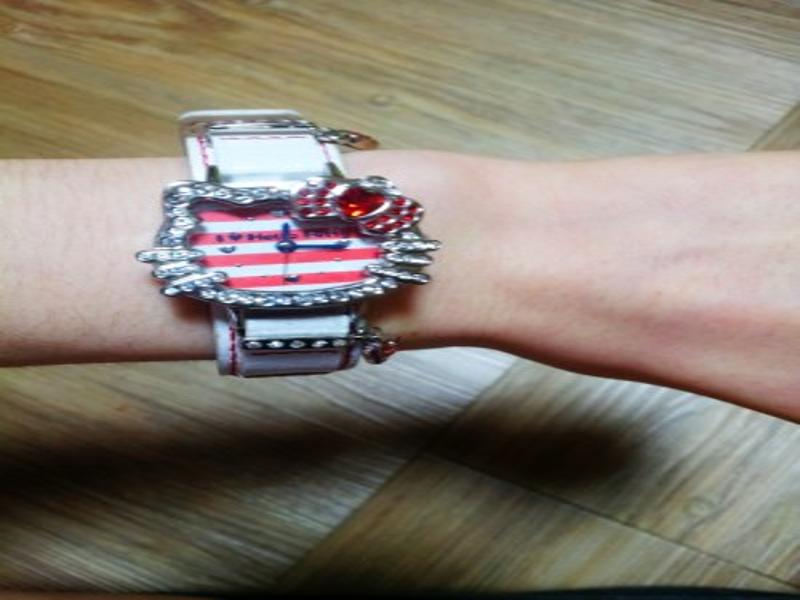watch: (132, 108, 442, 380)
